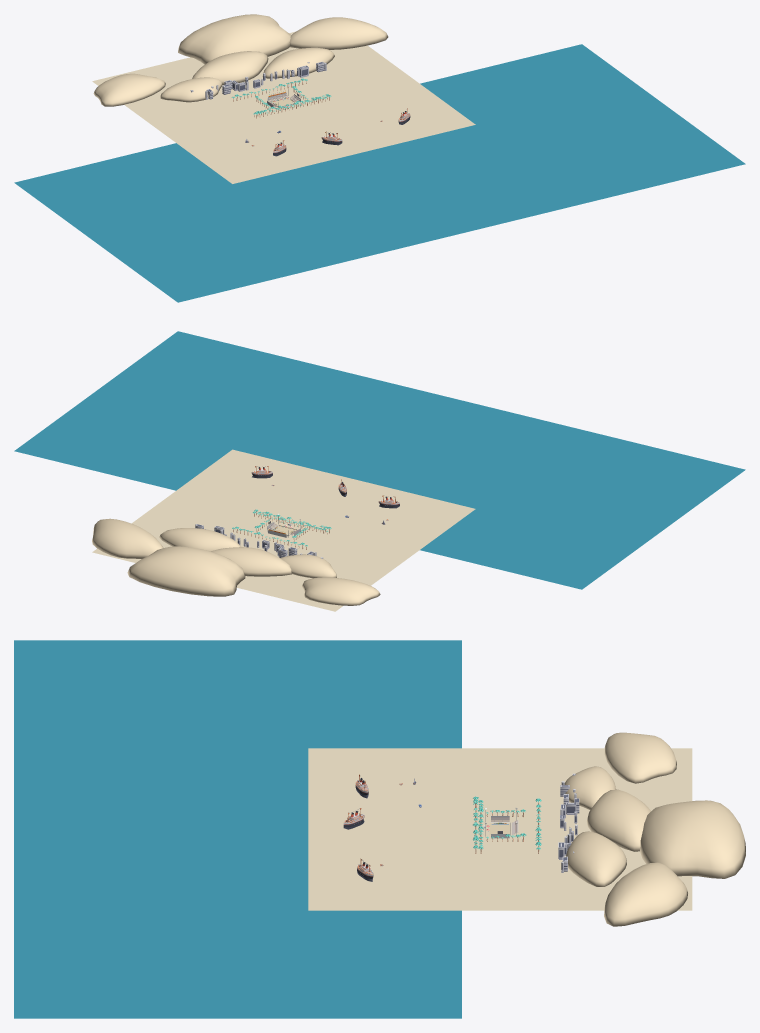
Rendered from dunas.glb.
3 views of the same model, one above another, from view 1: azimuth 30°, elevation 25°; view 2: azimuth 150°, elevation 25°; view 3: azimuth 270°, elevation 25° (orthographic). The views are drawn at different scales.
Visible parts, largest first — view 1: WATER, BEACH_SAND, DUNE_5, DUNE_3, DUNE_4, DUNE_1, DUNE_2, DUNE_0; view 2: WATER, BEACH_SAND, DUNE_5, DUNE_3, DUNE_4, DUNE_1, DUNE_2, DUNE_0; view 3: WATER, BEACH_SAND, DUNE_5, DUNE_3, DUNE_4, DUNE_1, DUNE_2, DUNE_0.
Boxes of the visible parts, x1=… form: WATER: x1=14, y1=44, x2=745, y2=302; BEACH_SAND: x1=92, y1=31, x2=475, y2=183; DUNE_5: x1=178, y1=14, x2=290, y2=64; DUNE_3: x1=289, y1=17, x2=388, y2=49; DUNE_4: x1=93, y1=73, x2=165, y2=106; DUNE_1: x1=192, y1=51, x2=268, y2=84; DUNE_2: x1=262, y1=47, x2=334, y2=78; DUNE_0: x1=160, y1=77, x2=222, y2=102; WATER: x1=14, y1=331, x2=745, y2=589; BEACH_SAND: x1=92, y1=449, x2=475, y2=611; DUNE_5: x1=127, y1=546, x2=245, y2=596; DUNE_3: x1=92, y1=518, x2=163, y2=558; DUNE_4: x1=302, y1=577, x2=380, y2=605; DUNE_1: x1=211, y1=547, x2=291, y2=576; DUNE_2: x1=159, y1=528, x2=240, y2=551; DUNE_0: x1=280, y1=554, x2=336, y2=578; WATER: x1=14, y1=640, x2=461, y2=1018; BEACH_SAND: x1=308, y1=748, x2=692, y2=910; DUNE_5: x1=640, y1=800, x2=745, y2=878; DUNE_3: x1=604, y1=862, x2=687, y2=926; DUNE_4: x1=604, y1=732, x2=676, y2=783; DUNE_1: x1=586, y1=789, x2=650, y2=851; DUNE_2: x1=566, y1=831, x2=626, y2=886; DUNE_0: x1=564, y1=766, x2=616, y2=810.
Bounding box in the file's own units: 1400 × 55.3 × 1144.
Materials: 46 (17 with a texture image).
